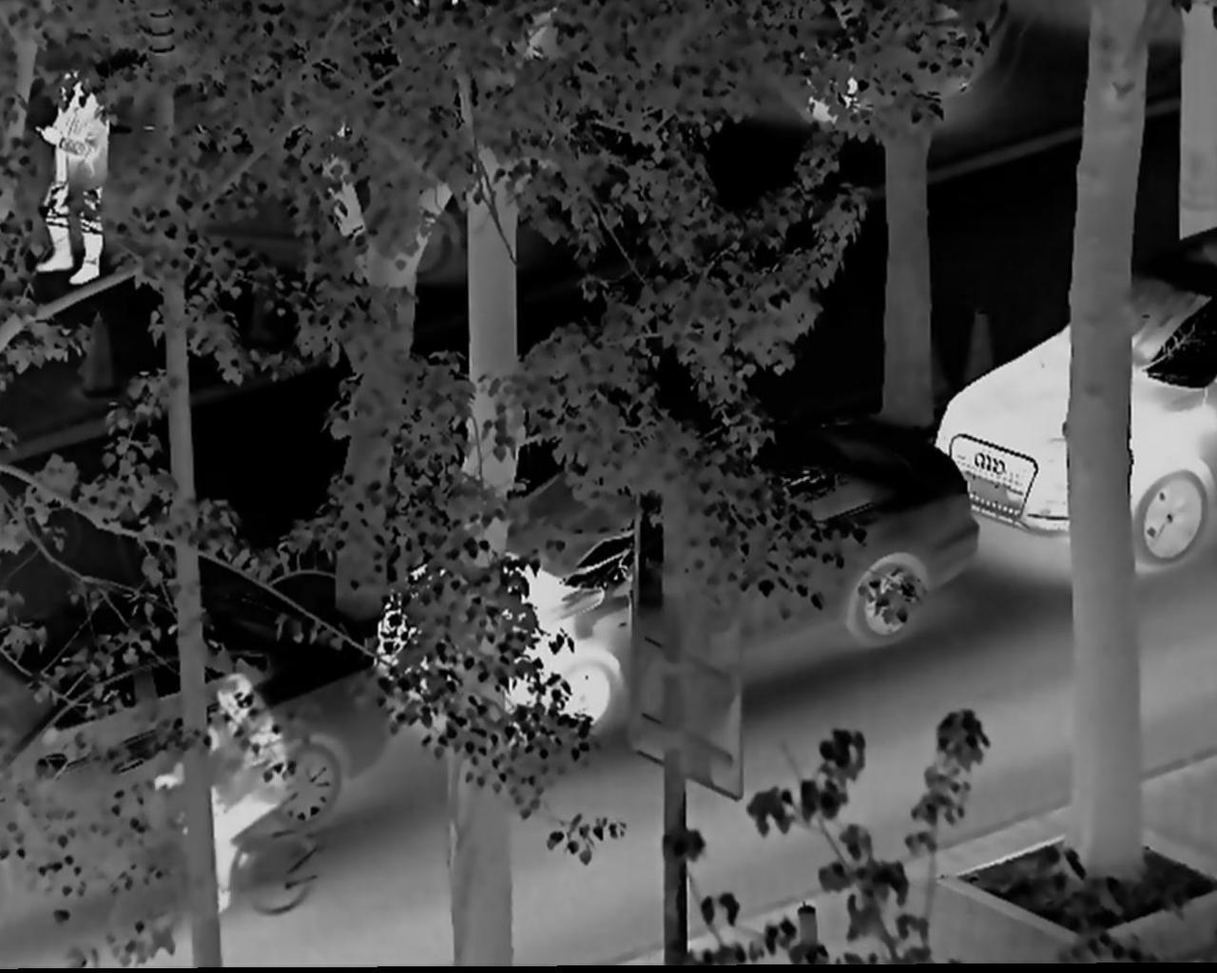person: (156, 671, 285, 920), (32, 65, 125, 287)
